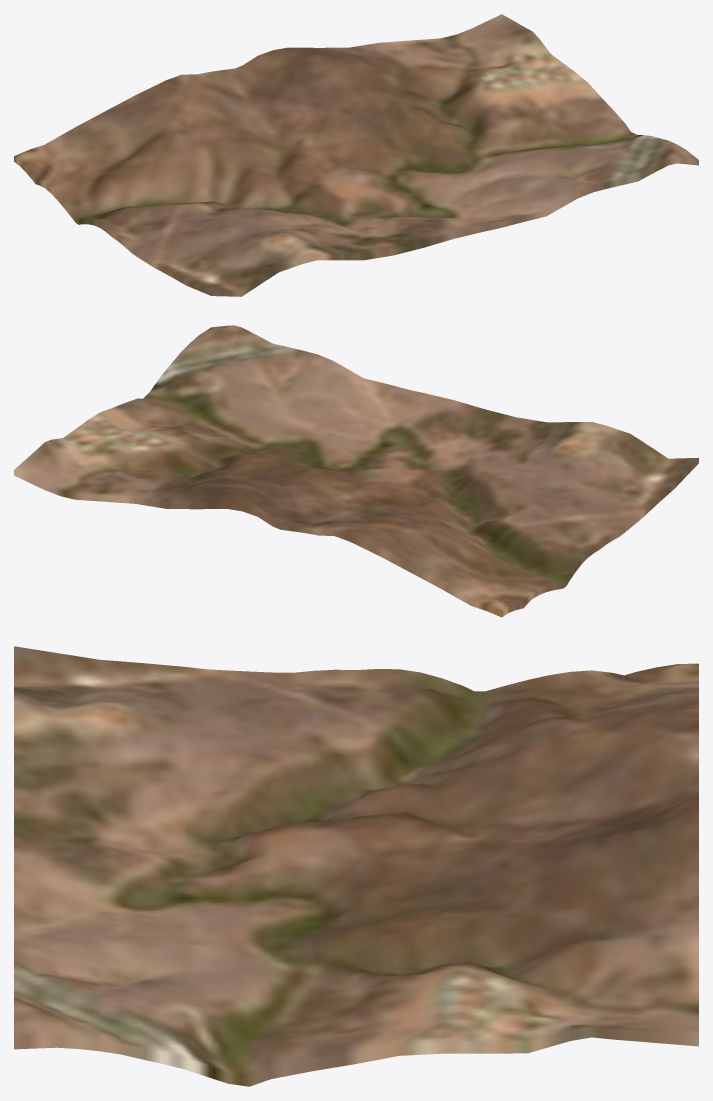
File: terrain_r5_c1_lod2.glb
3 renders of one model, top to bottom at view 1: azimuth 30°, elevation 25°; view 2: azimuth 150°, elevation 25°; view 3: azimuth 270°, elevation 25°, orthographic. The views are drawn at different scales.
Parts seen in each view (by area): view 1: terrain_r5_c1_lod2; view 2: terrain_r5_c1_lod2; view 3: terrain_r5_c1_lod2.
Part boxes in pixels (x1=…): terrain_r5_c1_lod2: x1=14, y1=14, x2=698, y2=296; terrain_r5_c1_lod2: x1=14, y1=325, x2=698, y2=617; terrain_r5_c1_lod2: x1=14, y1=646, x2=698, y2=1086.
Size of the model in its own units: 1125 by 142 by 787.
Materials: 1 (1 with a texture image).
